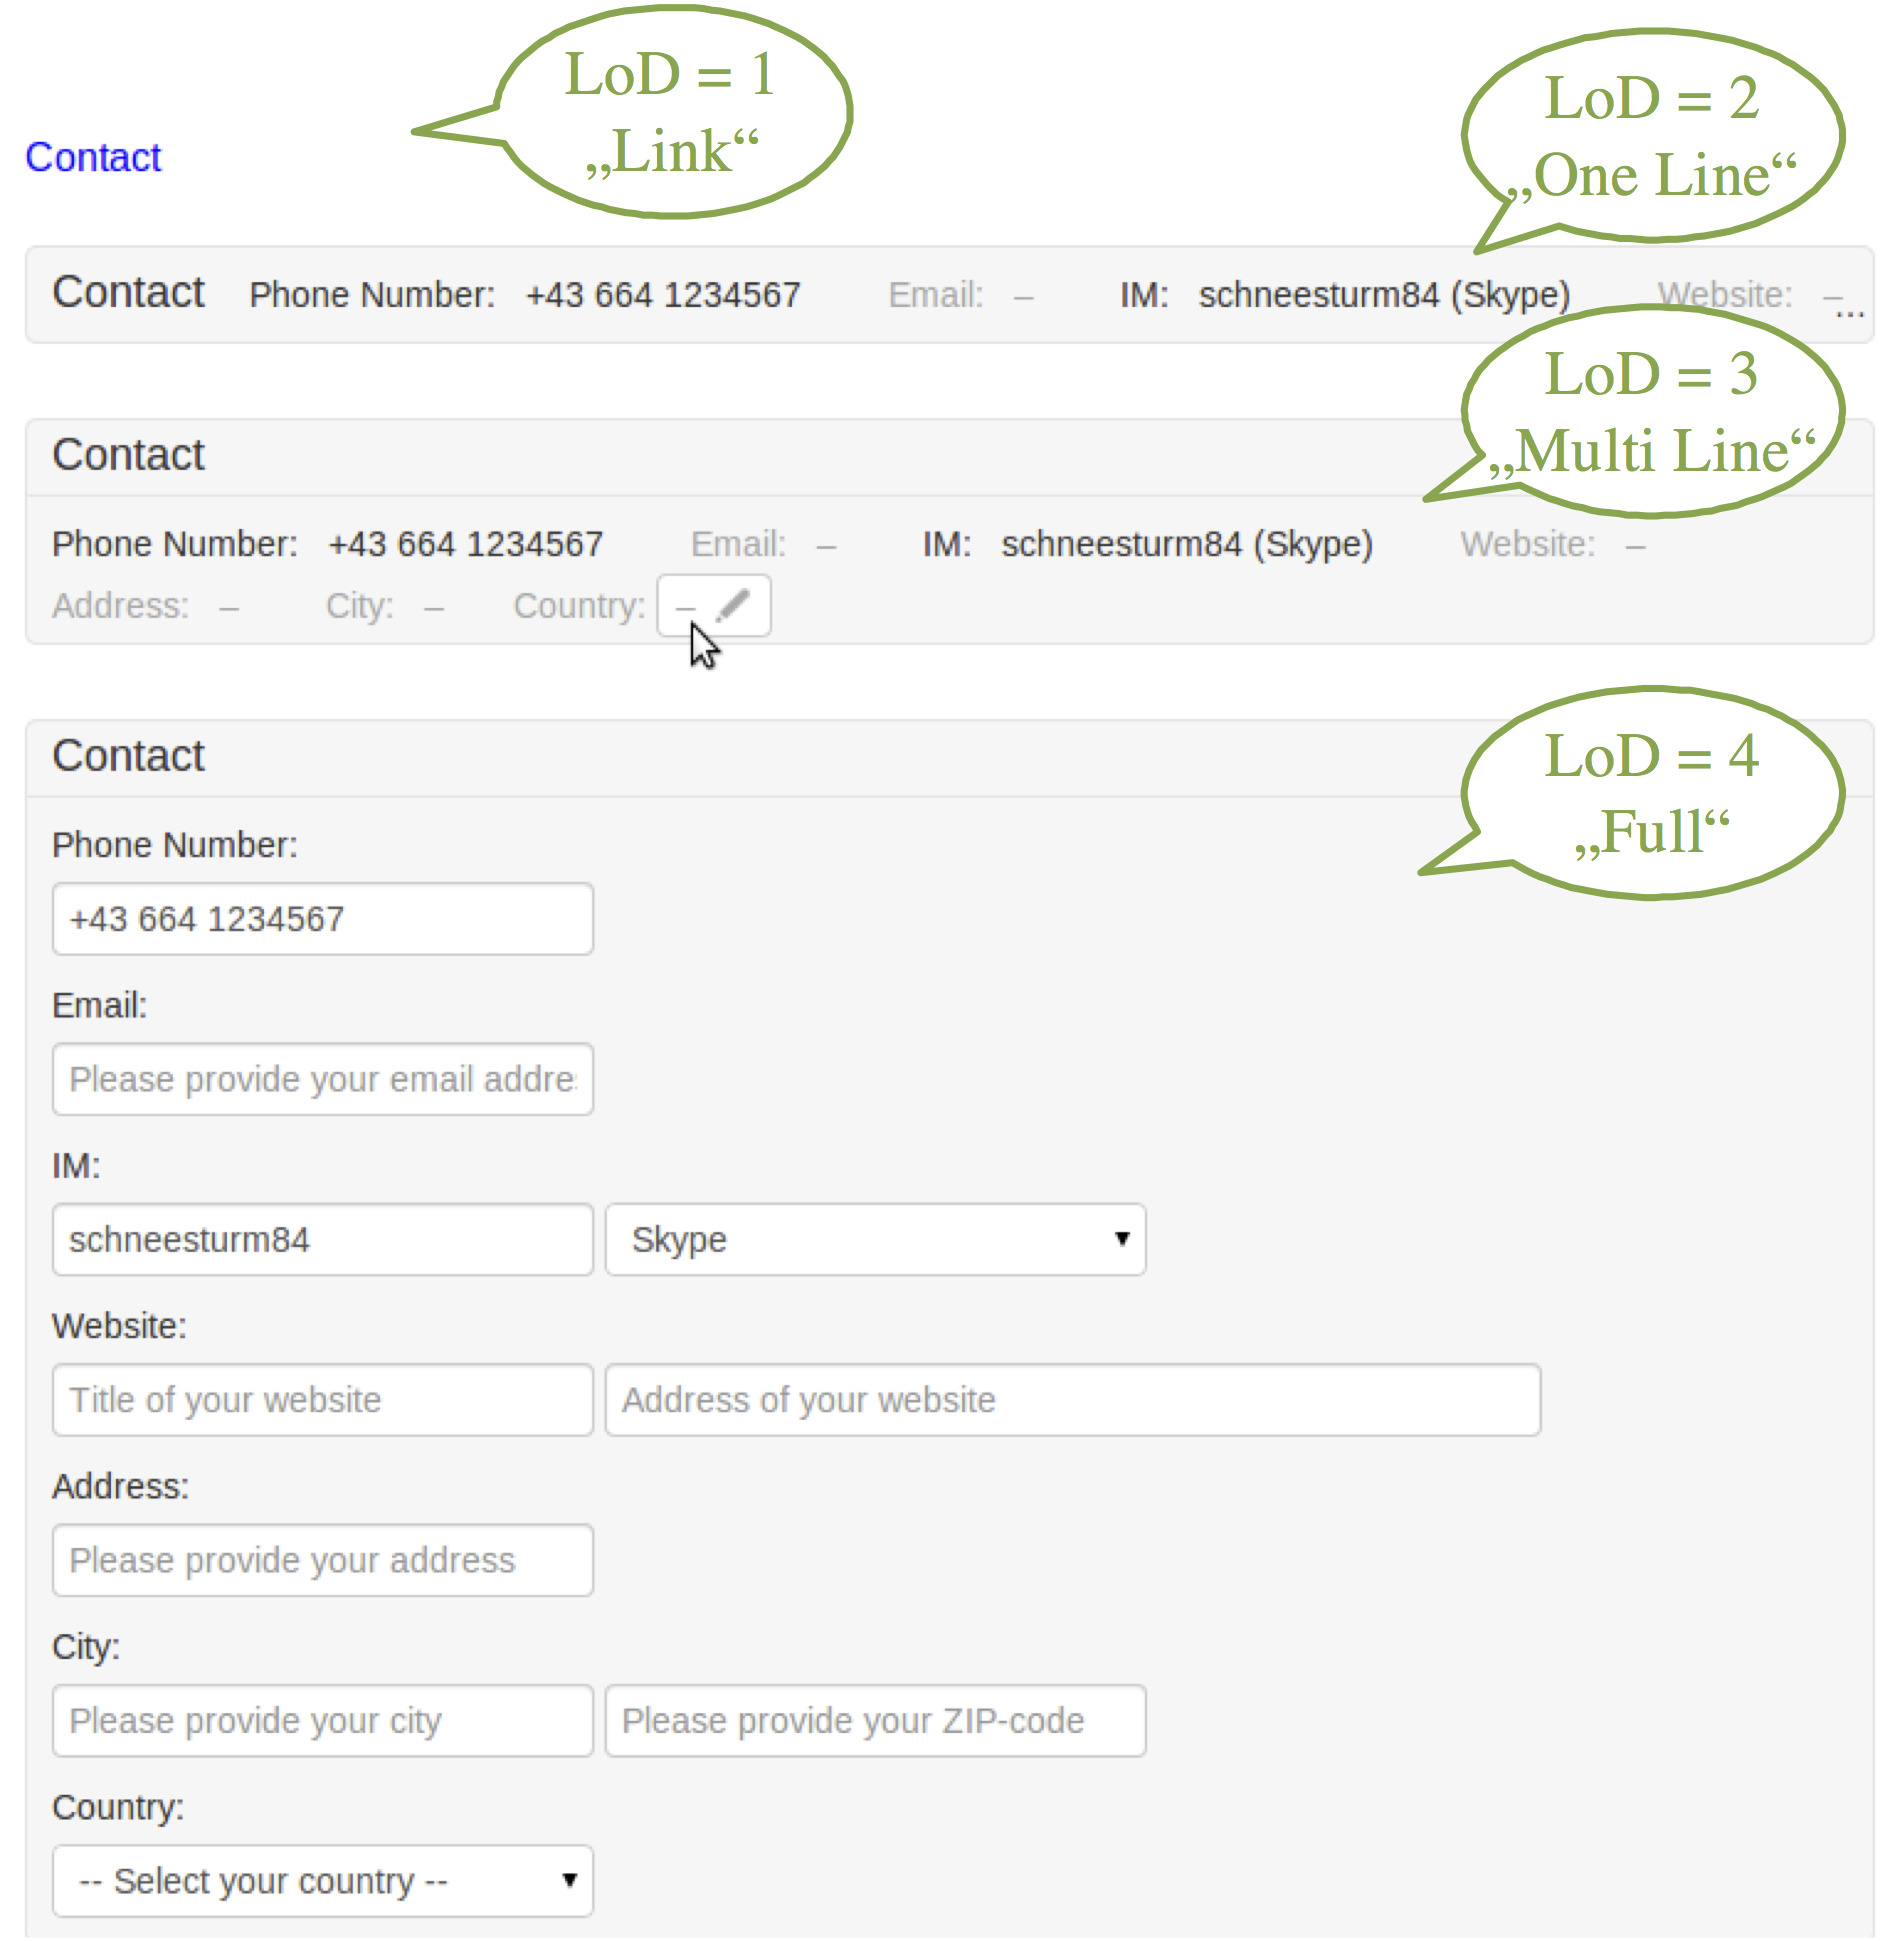_form_: (21, 1456, 627, 1941), (33, 808, 629, 1300), (31, 1289, 626, 1775), (586, 1347, 1177, 1809), (584, 1080, 1175, 1541)
field: (601, 1359, 1546, 1440), (49, 875, 601, 962), (43, 1036, 601, 1120), (49, 1518, 596, 1601), (601, 1681, 1151, 1762), (601, 1201, 1158, 1281), (50, 1842, 596, 1922), (49, 1198, 600, 1276), (49, 1681, 600, 1759), (49, 1360, 600, 1435)
field_with_label: (45, 825, 608, 965), (40, 990, 608, 1128), (40, 1466, 607, 1605), (42, 1308, 596, 1445), (49, 1790, 603, 1927), (42, 1633, 607, 1766), (47, 1151, 610, 1284)
